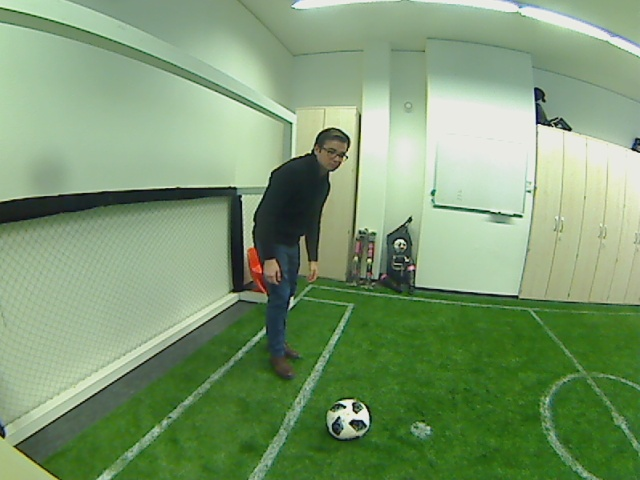ball: (324, 398, 373, 440)
